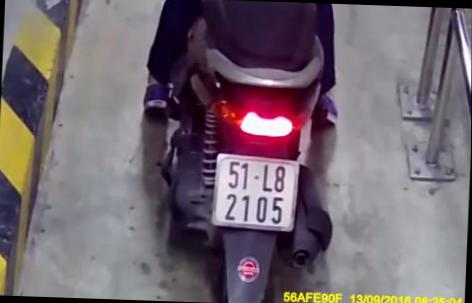LP: (211, 152, 302, 232)
